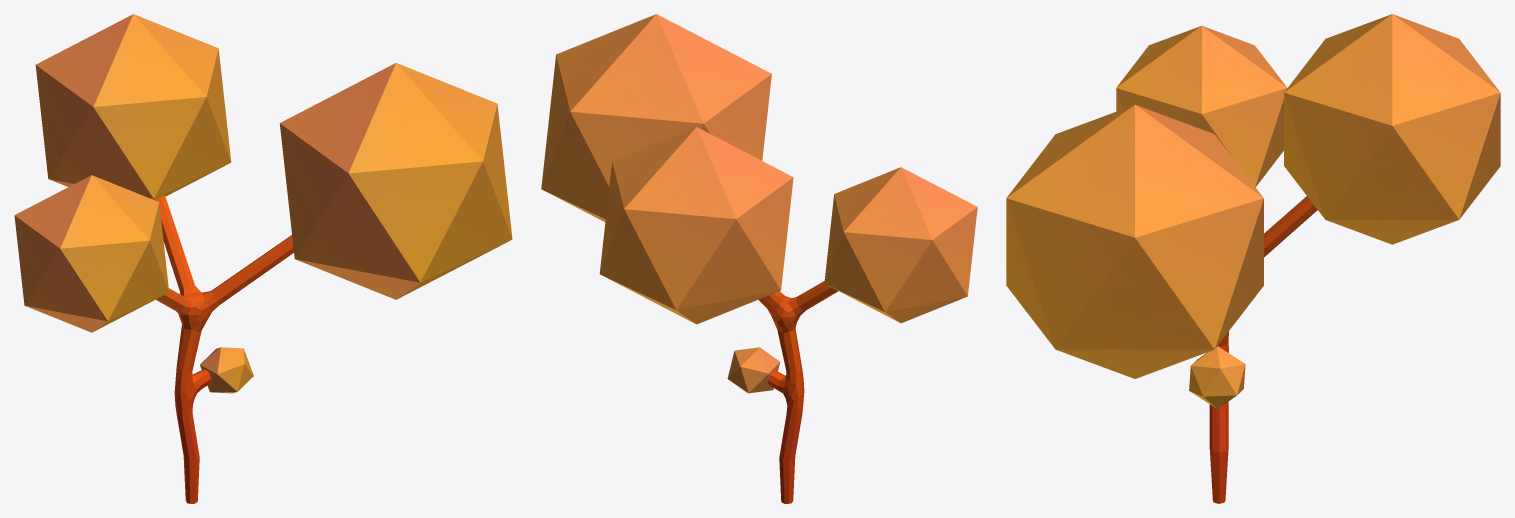
The model's file is Tree_9.fbx.
The picture shows the model from 3 angles, left to right: view 1: azimuth 30°, elevation 25°; view 2: azimuth 150°, elevation 25°; view 3: azimuth 270°, elevation 25°; orthographic projection. The views are drawn at different scales.
Parts seen in each view (by area): view 1: Tree_9; view 2: Tree_9; view 3: Tree_9.
Part boxes in pixels (bbox=[...]): Tree_9: bbox=[14, 14, 512, 503]; Tree_9: bbox=[541, 14, 977, 503]; Tree_9: bbox=[1006, 14, 1500, 503].
Bounding box in the file's own units: 285 × 264 × 238.
1 material, 1 textured.
